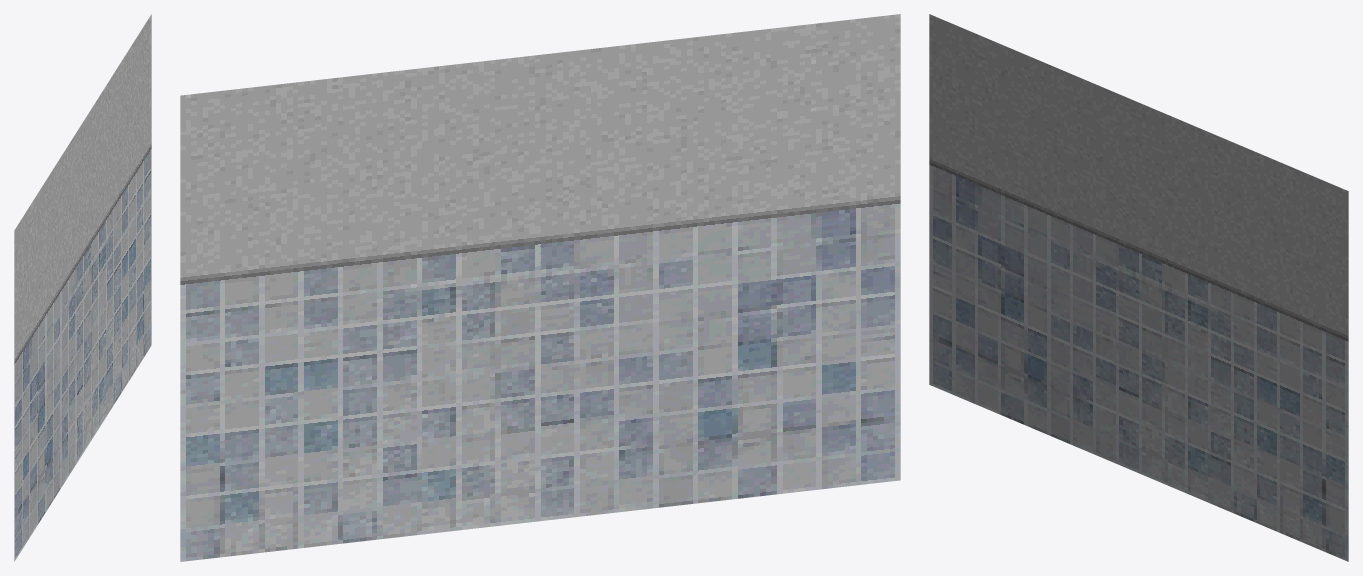
The model's file is wallDiagonalTiles.glb.
3 renders of one model, left to right at view 1: azimuth 30°, elevation 25°; view 2: azimuth 150°, elevation 25°; view 3: azimuth 270°, elevation 25°, orthographic. The views are drawn at different scales.
Parts seen in each view (by area): view 1: wallDiagonalTiles; view 2: wallDiagonalTiles; view 3: wallDiagonalTiles.
Part boxes in pixels (x1,y1,x2,y2): wallDiagonalTiles: (14, 14, 151, 561); wallDiagonalTiles: (180, 14, 900, 561); wallDiagonalTiles: (929, 14, 1348, 561).
Bounding box in the file's own units: 4.1 × 4 × 4.1.
1 material, 1 textured.
